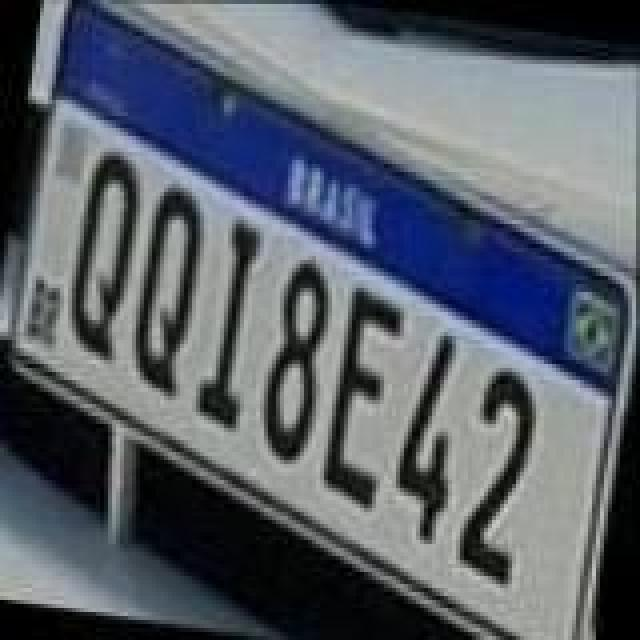2: (456, 360, 548, 588)
4: (388, 324, 472, 544)
8: (250, 254, 338, 470)
E: (318, 282, 414, 514)
I: (188, 212, 272, 432)
Q: (58, 146, 146, 366), (122, 178, 210, 398)
